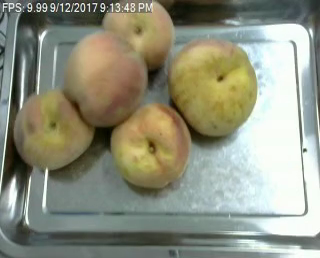Peach: (167, 37, 258, 137), (63, 31, 146, 127), (109, 103, 191, 188), (13, 88, 93, 171), (101, 0, 172, 70)
